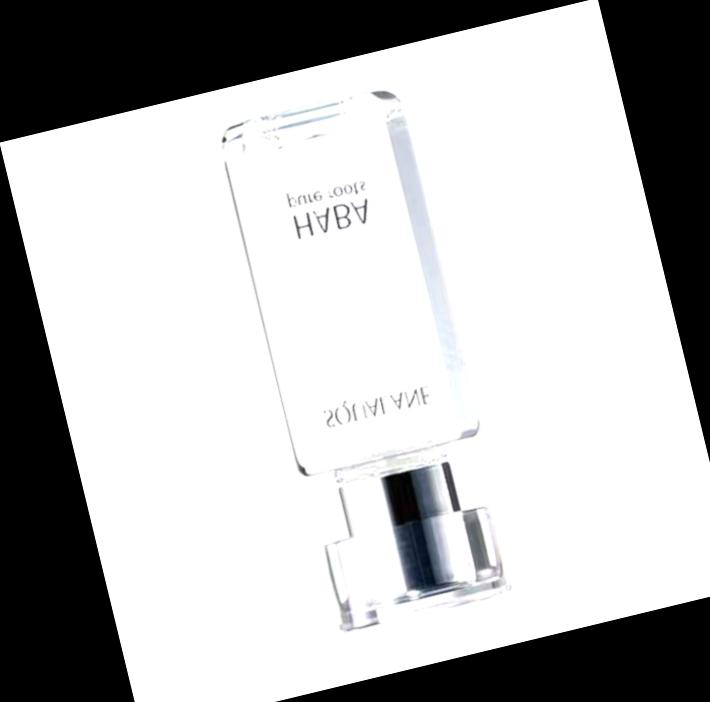cosmetic: (213, 85, 521, 636)
